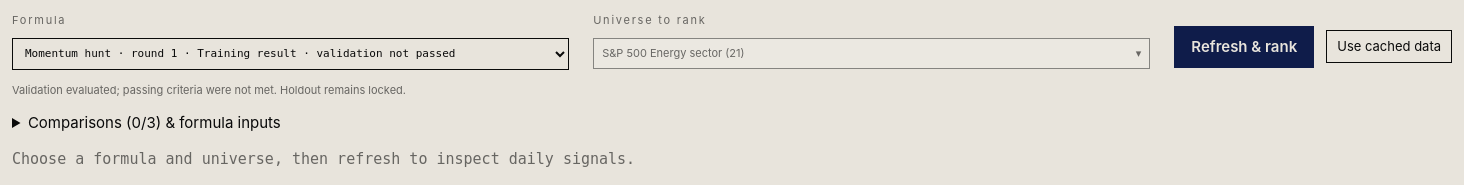
Test: Signals workspace › ignores a late submit response after the formula changes
Click the button "Refresh & rank" at (1244, 47), box [1174,26,1314,68]
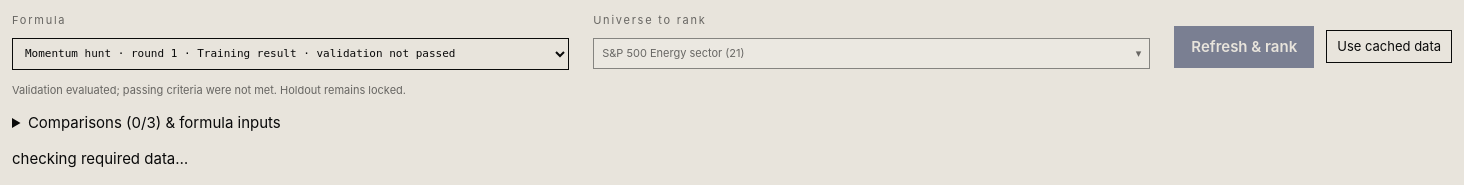
Select "Kept reversal · Library · saved" in the dropdown labelled "Formula" at (291, 54), box [12,38,569,70]
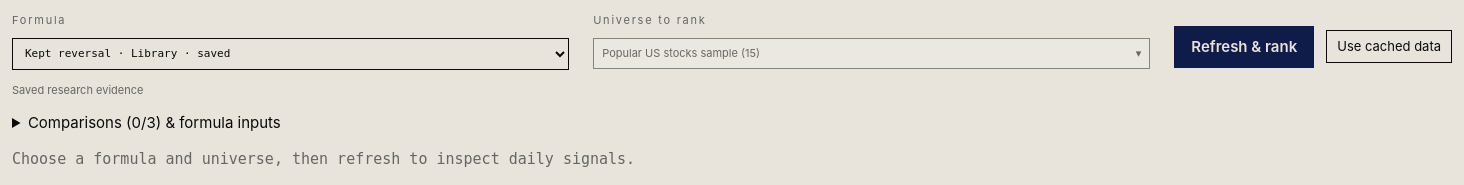
Result: the button "Refresh & rank" is enabled at [1174,26,1314,68]
